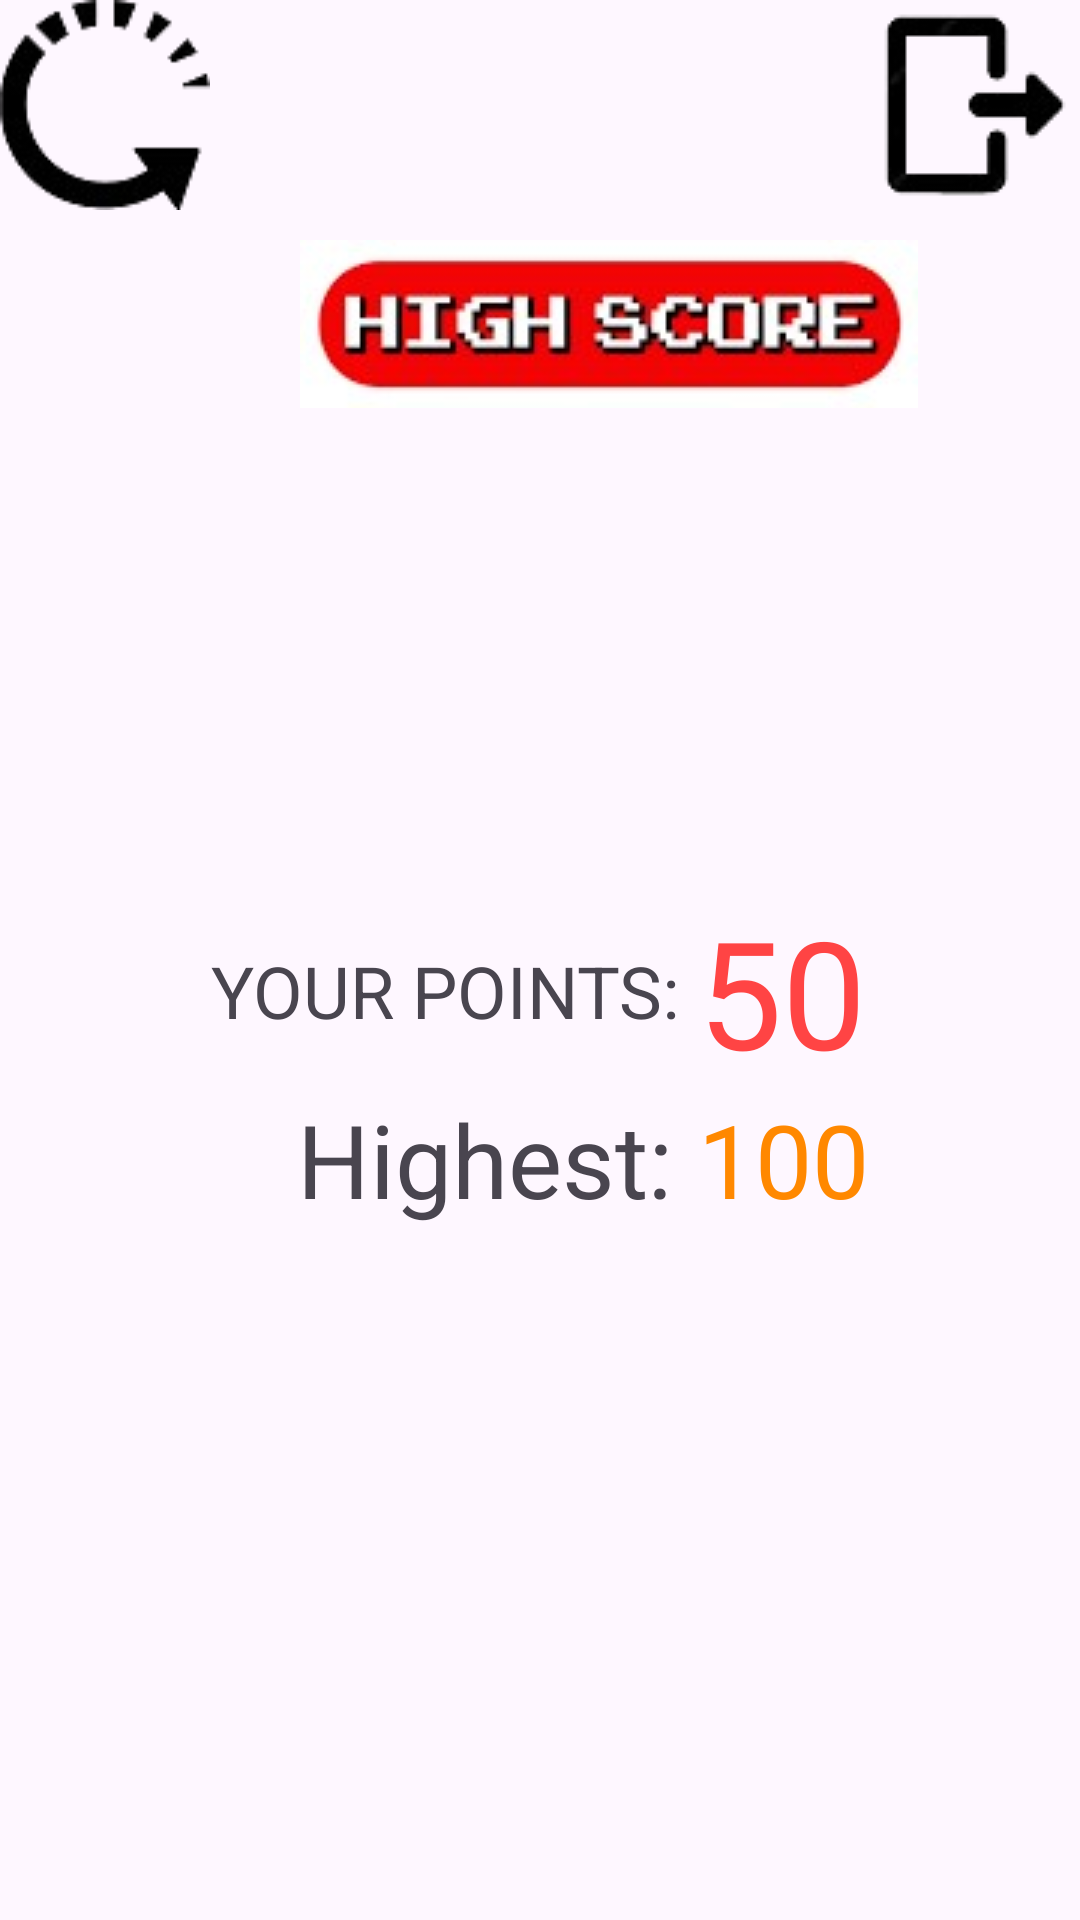

Named icons in this screenshot (1080x1920) and their bounding boxes, bbox=(x1, y1, x2, y2):
exit: bbox=(885, 15, 1064, 196)
restart: bbox=(0, 0, 210, 210)
